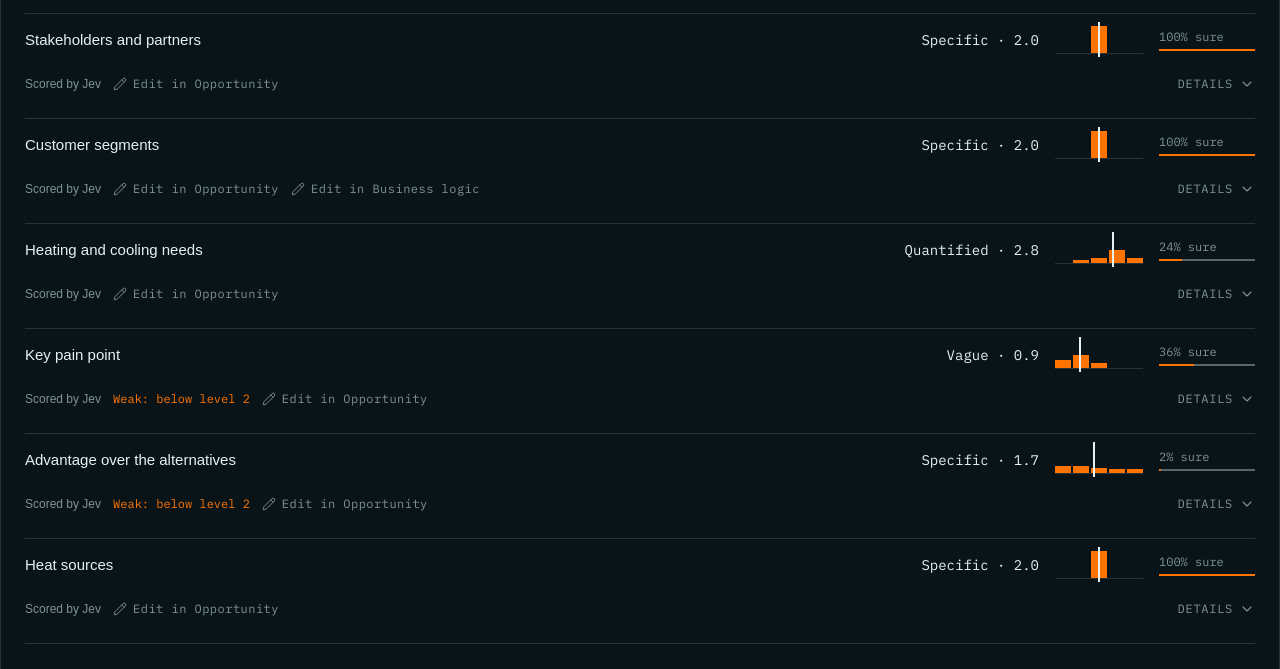
Test case: JudgementsPanel › marks the changed parts and hands each its saved suggestions
(page scrolled)
Click the button with aria-label "Details of" at (1216, 399), box [1178,377,1255,421]
(page scrolled)
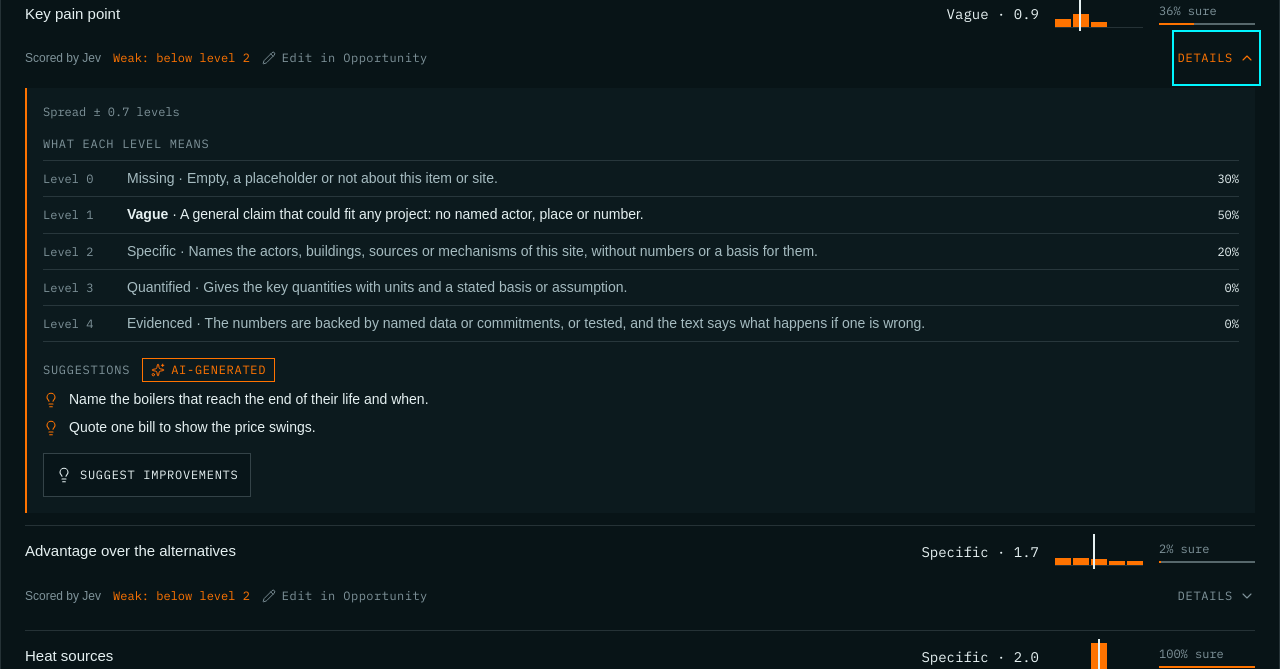
Check: the text "Name the boilers that reach the end of their life and when." is shown, box [69,390,429,410]
